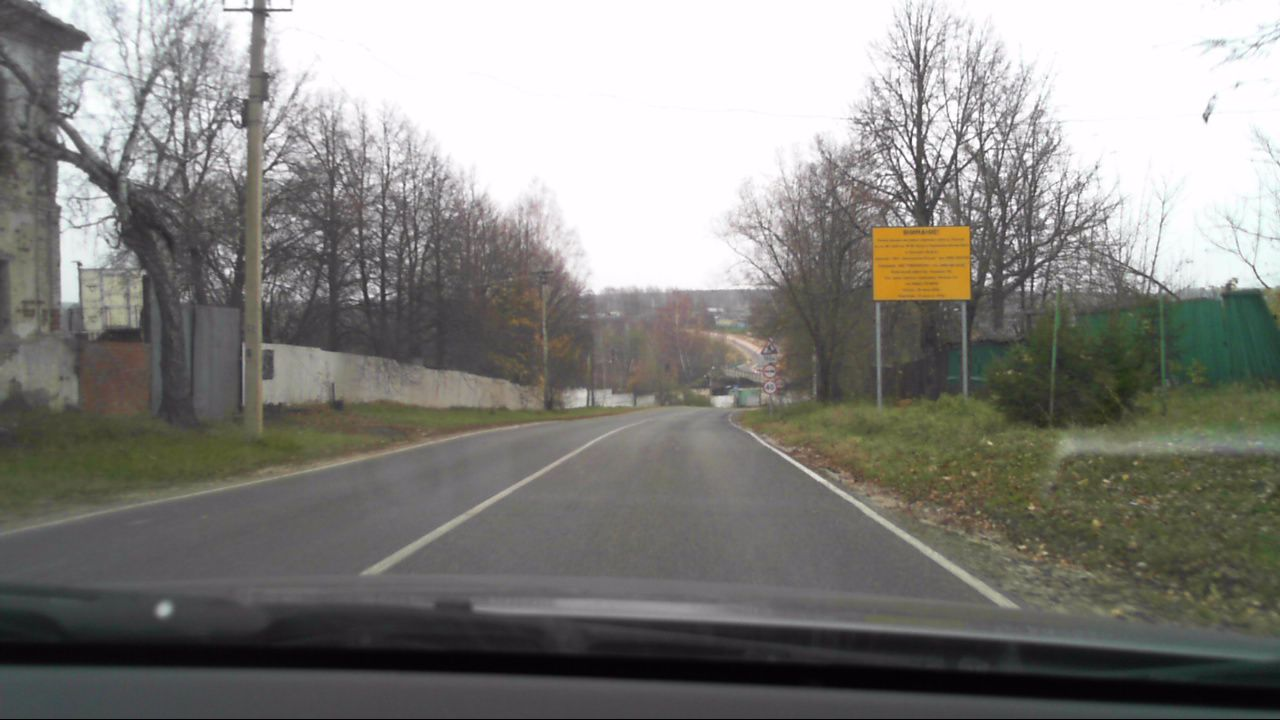speed_warning_40: (761, 380, 778, 398)
